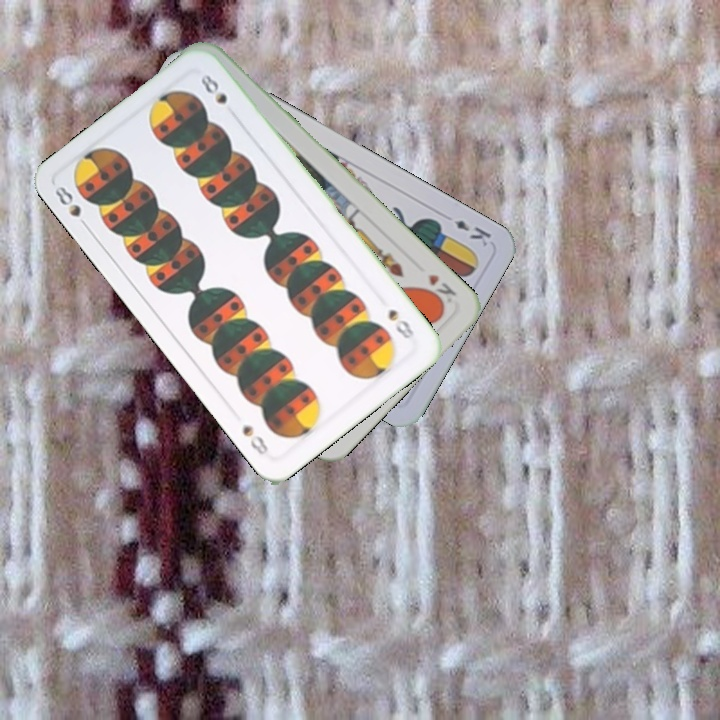EK: (450, 216, 494, 249)
HK: (420, 269, 459, 311)
S8: (50, 181, 93, 233), (384, 305, 417, 342)
